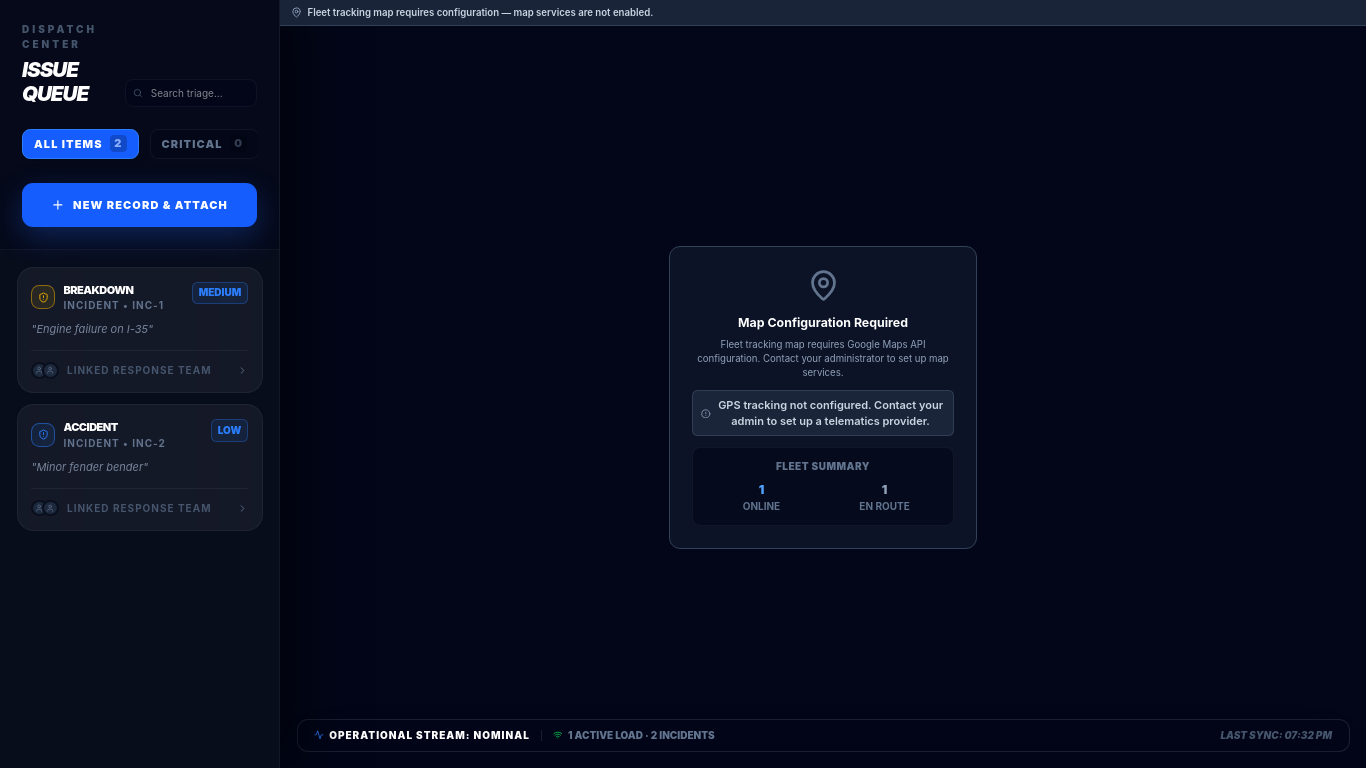
Scenario: CommandCenterView › filters triage list by search term
Type "fender" into the field with placeholder "Search triage..." at [191, 93], box [125,79,257,107]
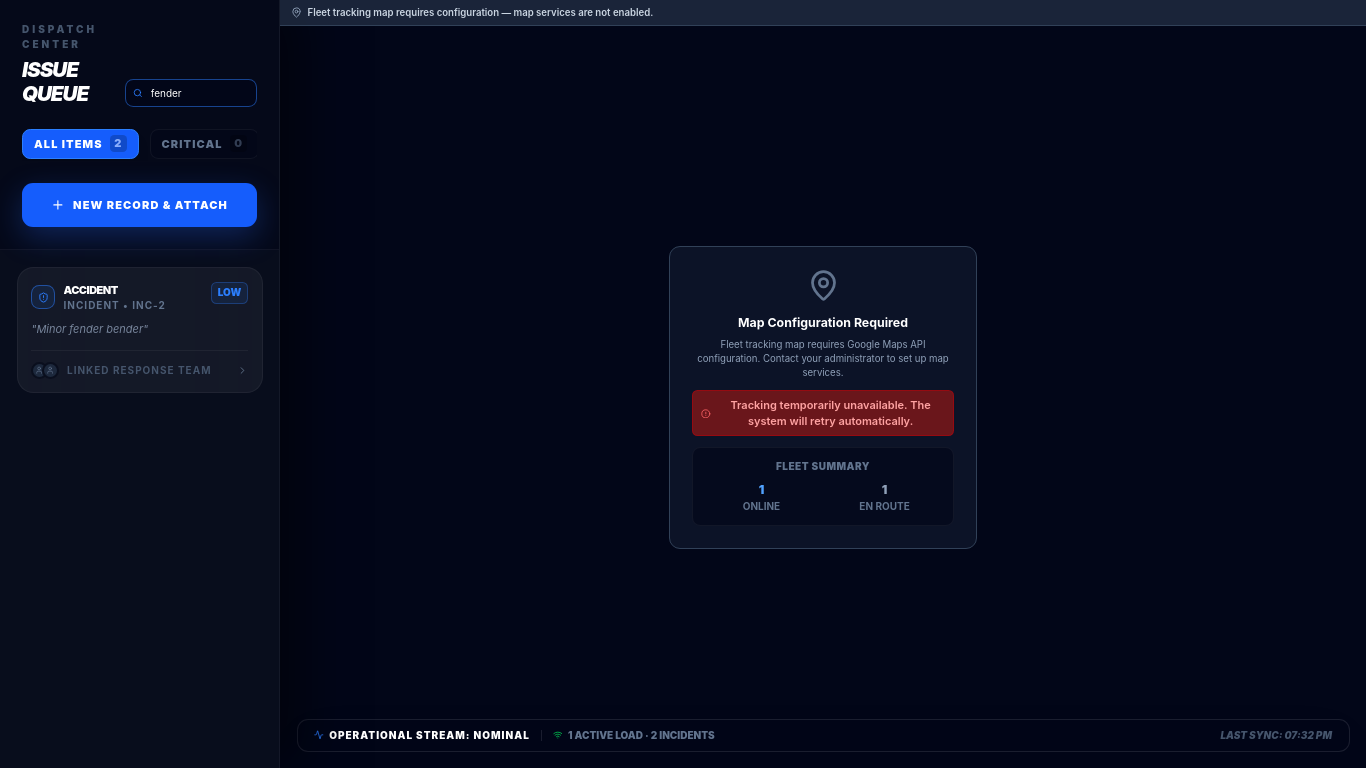
Check: the text "\"Minor fender bender\"" is shown, box [31,322,148,336]
Check: the text "Engine failure" is gone
